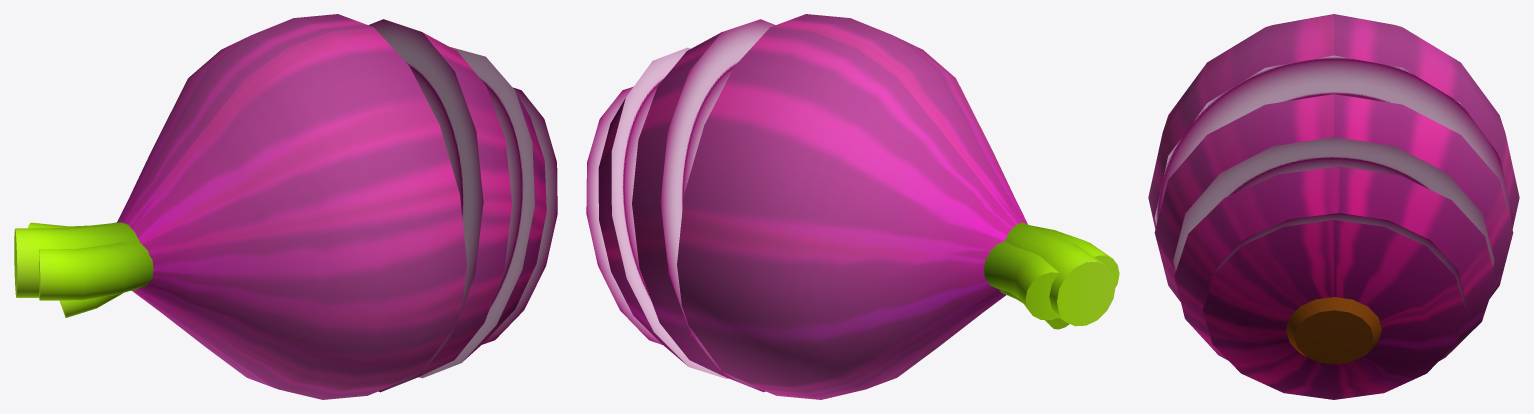
Rendered from Onion_01_S3.fbx.
3 renders of one model, left to right at view 1: azimuth 30°, elevation 25°; view 2: azimuth 150°, elevation 25°; view 3: azimuth 270°, elevation 25°, orthographic. The views are drawn at different scales.
Visible parts, largest first — view 1: Onion_01_S3; view 2: Onion_01_S3; view 3: Onion_01_S3.
Boxes of the visible parts, bbox=[...] form: Onion_01_S3: bbox=[14, 14, 557, 399]; Onion_01_S3: bbox=[586, 14, 1119, 399]; Onion_01_S3: bbox=[1148, 14, 1519, 399].
Bounding box in the file's own units: 49.52 × 32.97 × 32.97.
